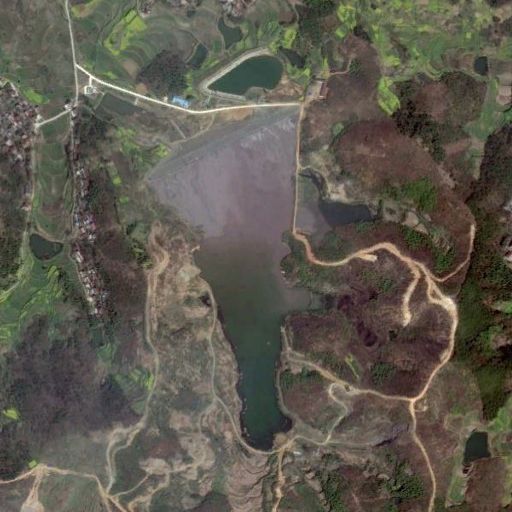tp: (145, 105, 373, 451)
